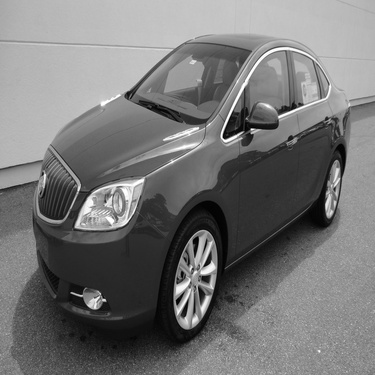car: (22, 24, 360, 348)
